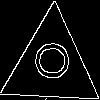O: (26, 40, 70, 82)
